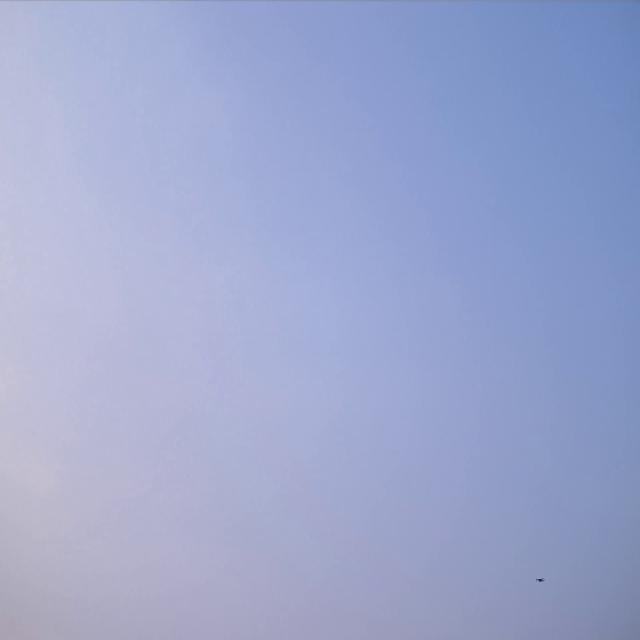UAV: (534, 575, 546, 584)
